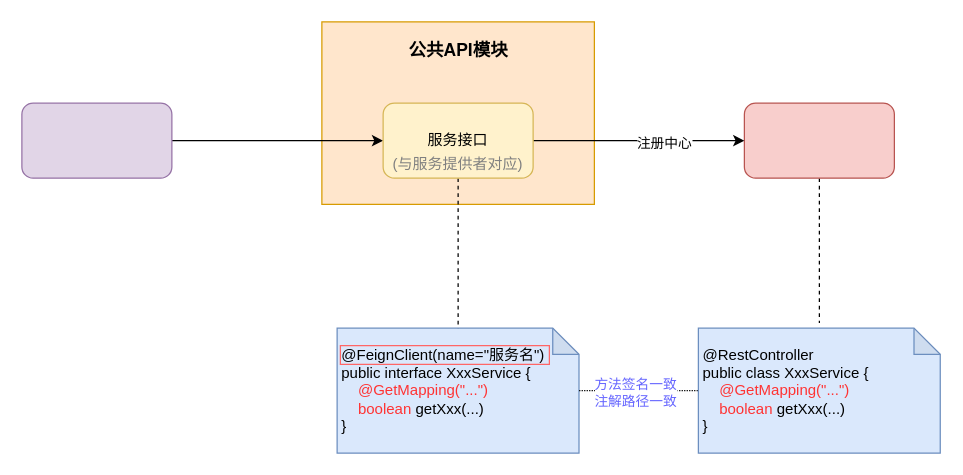
Some shapes in this 963 by 475 pixel diagram are drawn without their labels. Here are the shapes that lost their labels. From the top down, the centre of each, then its label:
At [96,140]: "服务消费者".
At [818,140]: "服务提供者".
